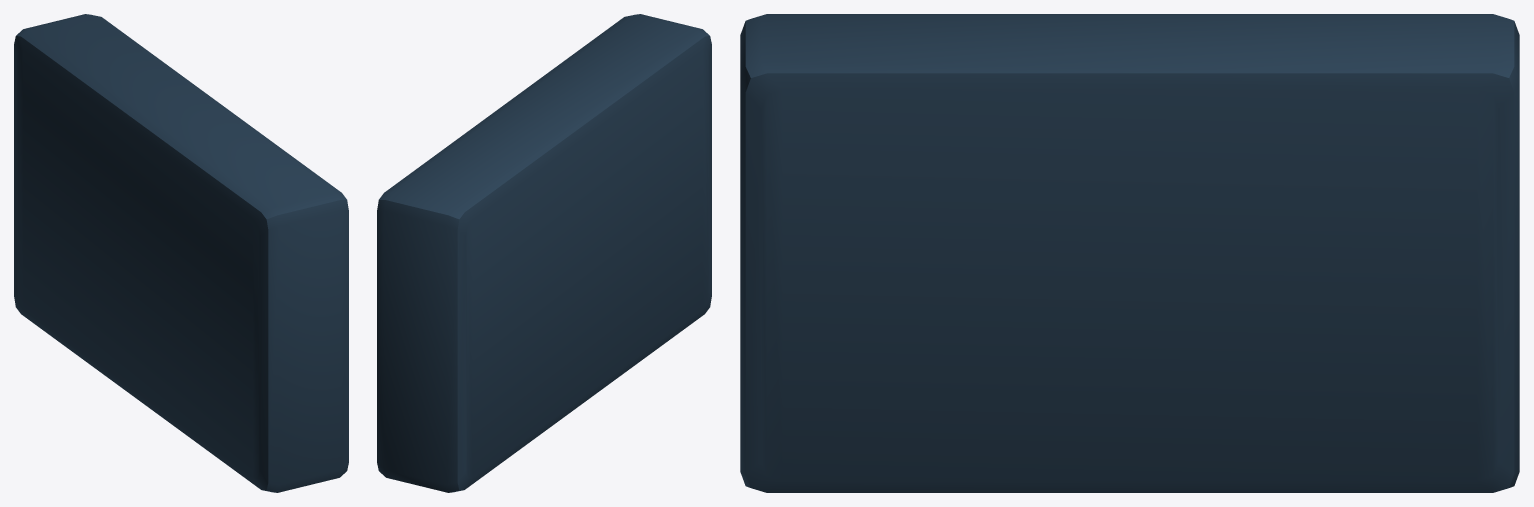
Rendered from Cushion_2.FBX.
The picture shows the model from 3 angles, left to right: view 1: azimuth 30°, elevation 25°; view 2: azimuth 150°, elevation 25°; view 3: azimuth 270°, elevation 25°; orthographic projection. The views are drawn at different scales.
Visible parts, largest first — view 1: Cushion_2; view 2: Cushion_2; view 3: Cushion_2.
Part boxes in pixels (x1,y1,x2,y2): Cushion_2: (14,14,348,492); Cushion_2: (377,14,711,492); Cushion_2: (740,14,1519,492).
Bounding box in the file's own units: 0.2504 × 0.7845 × 1.29.
